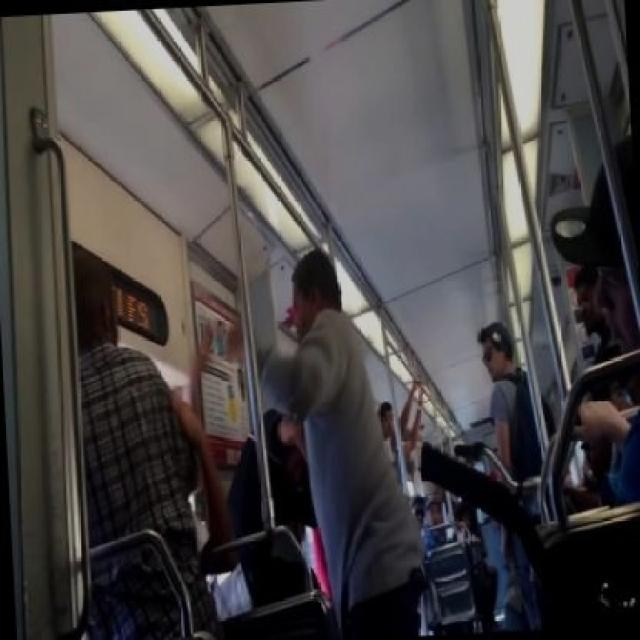fight: (75, 243, 425, 640)
non-fight: (472, 320, 558, 630), (376, 378, 426, 524)
